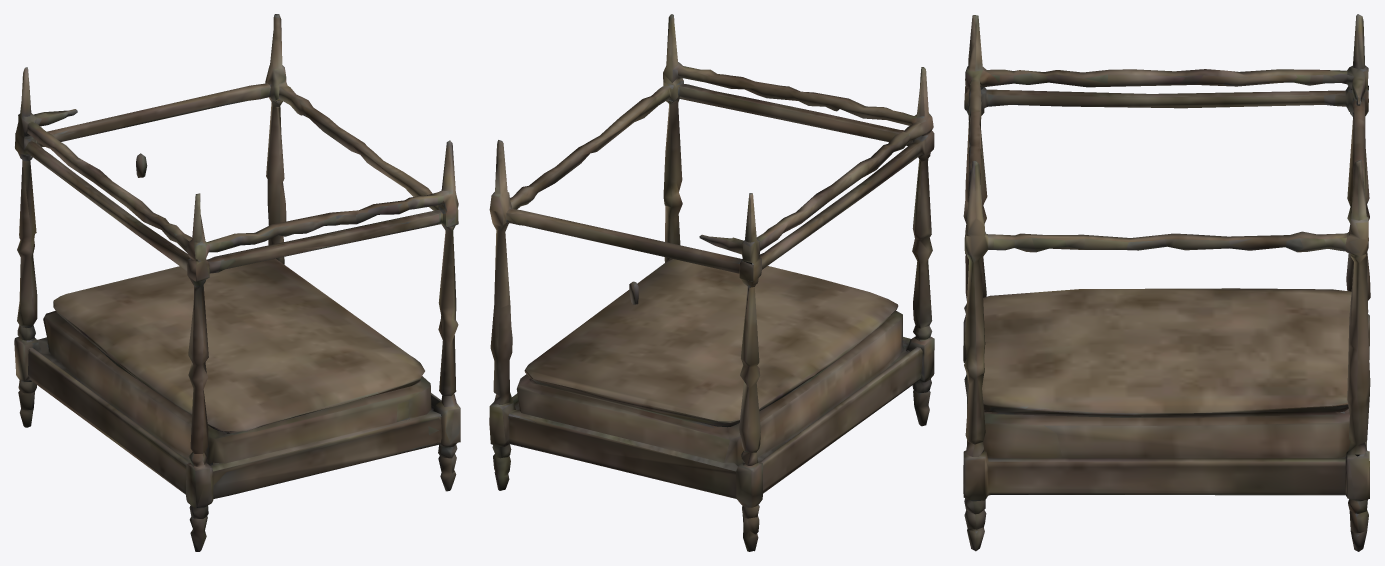
The model's file is ornate-wood-four-poster-bed-v002.glb.
3 renders of one model, left to right at view 1: azimuth 30°, elevation 25°; view 2: azimuth 150°, elevation 25°; view 3: azimuth 270°, elevation 25°, orthographic. The views are drawn at different scales.
Visible parts, largest first — view 1: ornate-wood-four-poster-bed; view 2: ornate-wood-four-poster-bed; view 3: ornate-wood-four-poster-bed.
Boxes of the visible parts, x1=… form: ornate-wood-four-poster-bed: x1=14, y1=14, x2=460, y2=551; ornate-wood-four-poster-bed: x1=489, y1=14, x2=934, y2=551; ornate-wood-four-poster-bed: x1=963, y1=14, x2=1370, y2=551.
Bounding box in the file's own units: 1.81 × 2.32 × 2.14.
Materials: 1 (1 with a texture image).
